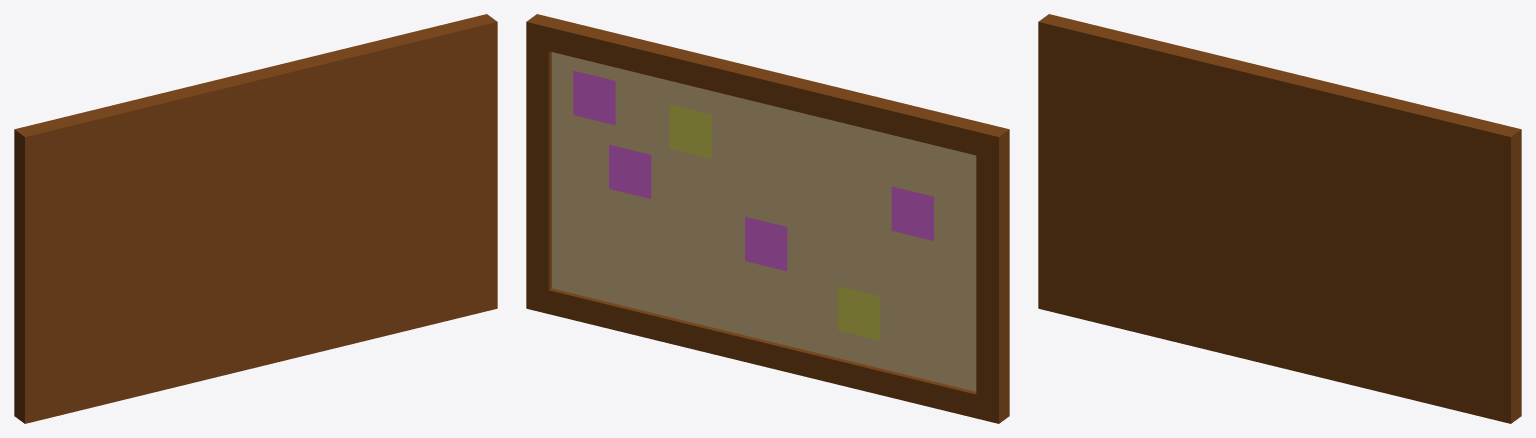
File: communityBoard.glb
The picture shows the model from 3 angles, left to right: view 1: azimuth 30°, elevation 25°; view 2: azimuth 150°, elevation 25°; view 3: azimuth 330°, elevation 25°; orthographic projection.
Parts seen in each view (by area): view 1: Cube; view 2: Cube, Plane.002, Plane, Plane.001, Plane.003, Plane.004, Plane.005; view 3: Cube.
Part boxes in pixels (x1,y1,x2,y2): Cube: [14, 14, 497, 423]; Cube: [526, 14, 1009, 423]; Plane.002: [669, 104, 711, 158]; Plane: [573, 70, 615, 125]; Plane.001: [609, 144, 651, 198]; Plane.003: [745, 217, 787, 271]; Plane.004: [838, 286, 880, 340]; Plane.005: [891, 186, 933, 240]; Cube: [1038, 14, 1521, 423].
Size of the model in its own units: 5.84 by 3.39 by 0.2296.
